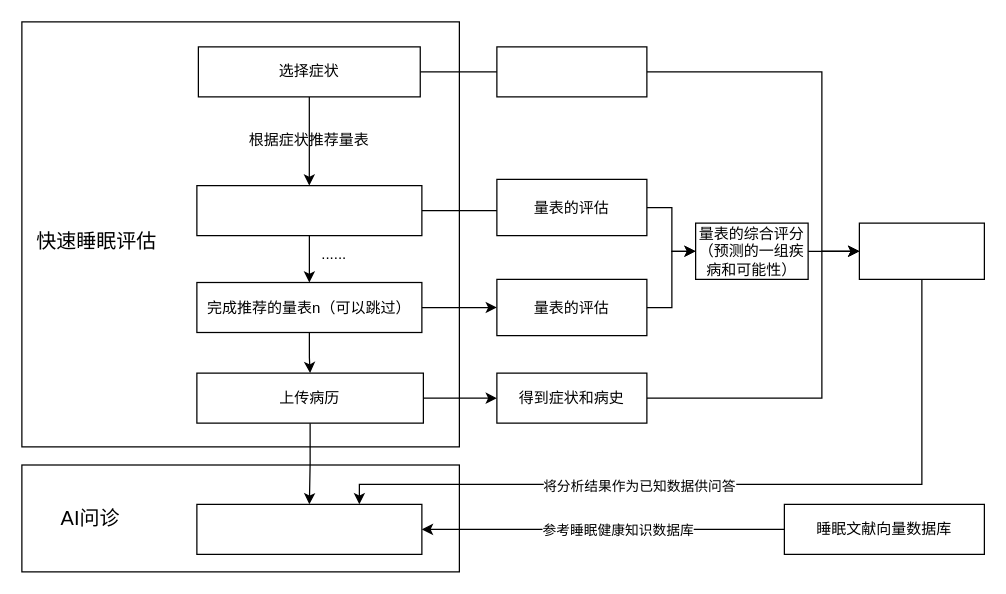
This 1006x594 diagram has some shape labels left out. Each missing label, with the box of its shape:
neo4j 知识图谱 查询结果: (496, 46, 647, 97)
完成推荐的量表1（可以跳过）: (196, 184, 422, 236)
开始聊天: (196, 503, 422, 554)
综合整理得到分析结果: (858, 222, 984, 279)
